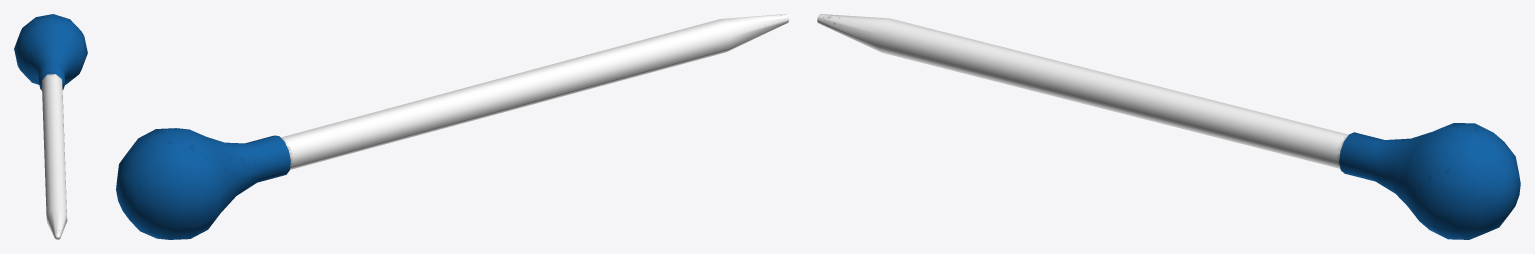
The model's file is pipette.glb.
3 renders of one model, left to right at view 1: azimuth 30°, elevation 25°; view 2: azimuth 150°, elevation 25°; view 3: azimuth 270°, elevation 25°, orthographic. The views are drawn at different scales.
Parts seen in each view (by area): view 1: Blue_piette_NakedSingularity; view 2: Blue_piette_NakedSingularity; view 3: Blue_piette_NakedSingularity.
Part boxes in pixels (x1,y1,x2,y2): Blue_piette_NakedSingularity: [14, 14, 87, 239]; Blue_piette_NakedSingularity: [116, 14, 788, 239]; Blue_piette_NakedSingularity: [817, 14, 1520, 239].
Size of the model in its own units: 0.0967 by 0.0272 by 0.1613.
Materials: 2 (2 with a texture image).
